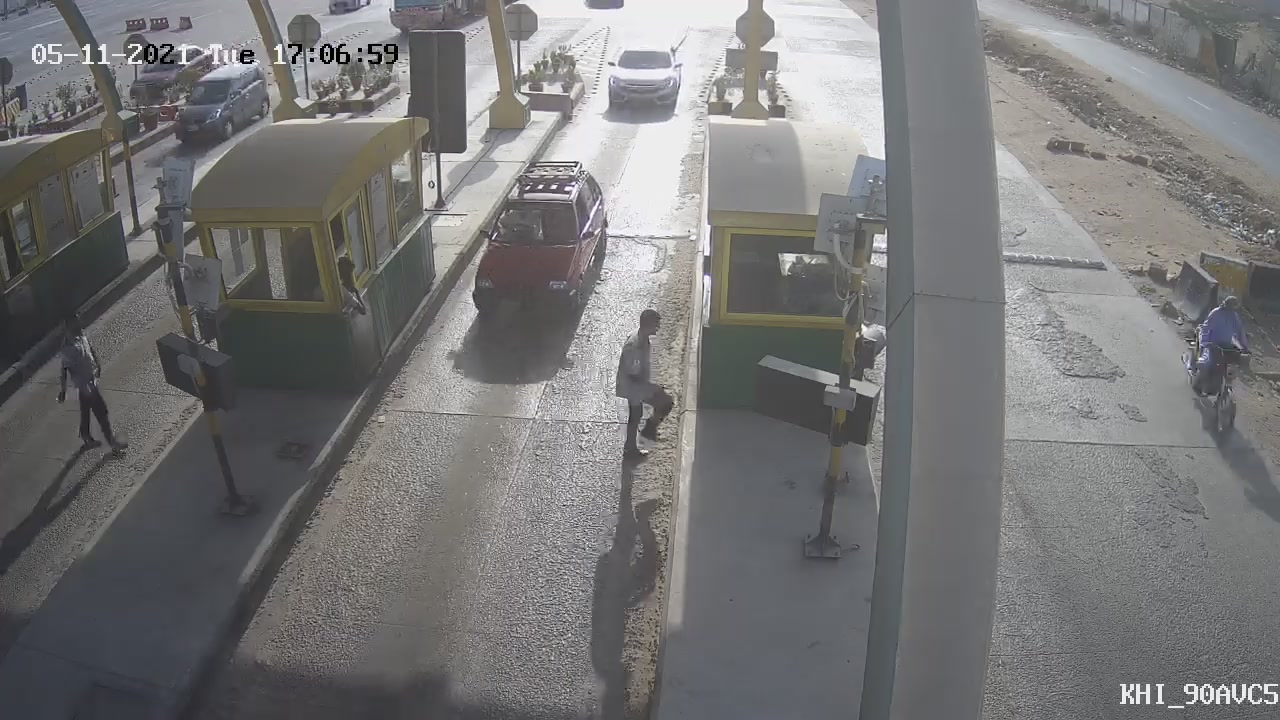F1: (452, 144, 625, 351)
